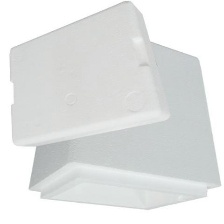foam_box: (3, 0, 224, 213)
